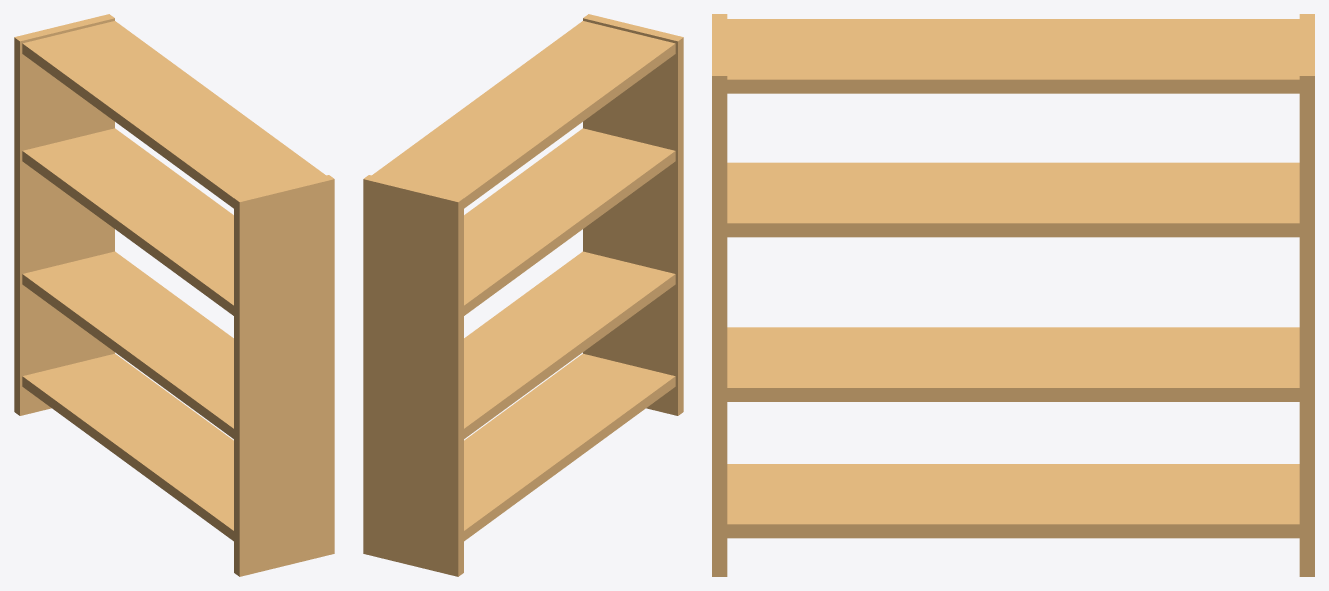
File: Shelf.glb
The picture shows the model from 3 angles, left to right: view 1: azimuth 30°, elevation 25°; view 2: azimuth 150°, elevation 25°; view 3: azimuth 270°, elevation 25°; orthographic projection. The views are drawn at different scales.
Visible parts, largest first — view 1: group537364515, group250719238, group1800173757, group1417189614, group500013617, group2109013487; view 2: group1800173757, group250719238, group537364515, group1417189614, group500013617, group2109013487; view 3: group500013617, group1417189614, group250719238, group2109013487, group537364515, group1800173757.
Part boxes in pixels (box(x1,y1,x2,y2)): group537364515: box(234, 175, 334, 576); group250719238: box(22, 21, 325, 208); group1800173757: box(14, 14, 114, 415); group1417189614: box(22, 251, 233, 438); group500013617: box(22, 128, 233, 315); group2109013487: box(22, 353, 233, 541); group1800173757: box(363, 175, 463, 576); group250719238: box(372, 21, 675, 208); group537364515: box(583, 14, 683, 415); group1417189614: box(464, 251, 675, 438); group500013617: box(464, 128, 675, 315); group2109013487: box(464, 353, 675, 541); group500013617: box(727, 162, 1299, 237); group1417189614: box(727, 327, 1299, 401); group250719238: box(727, 19, 1299, 93); group2109013487: box(727, 464, 1299, 538); group537364515: box(712, 14, 727, 576); group1800173757: box(1299, 14, 1314, 576).
Size of the model in its own units: 0.38 by 1.43 by 1.56.
